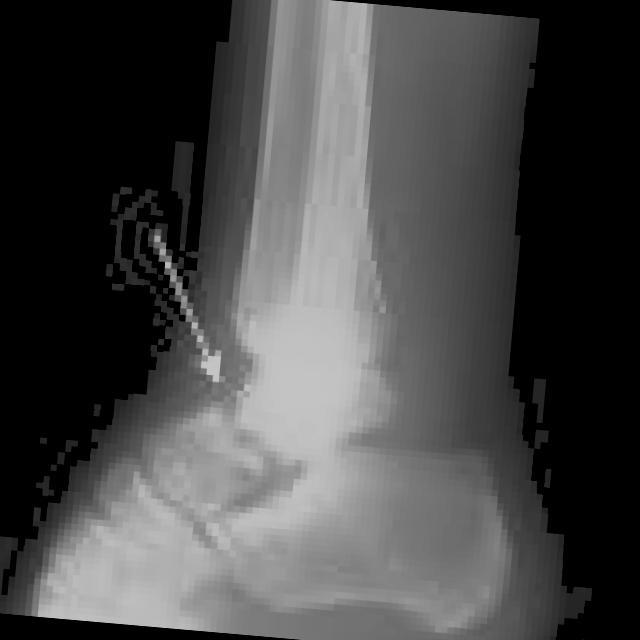HairLine Fracture: (208, 389, 254, 433)
